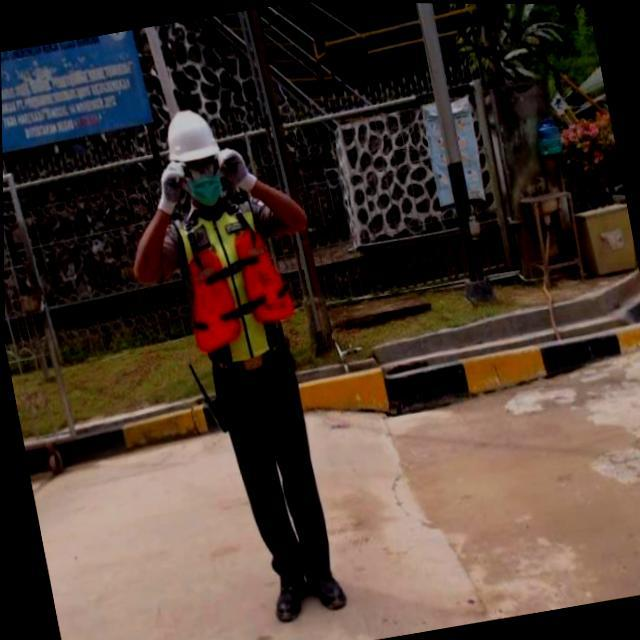goggles_on: (177, 148, 224, 182)
